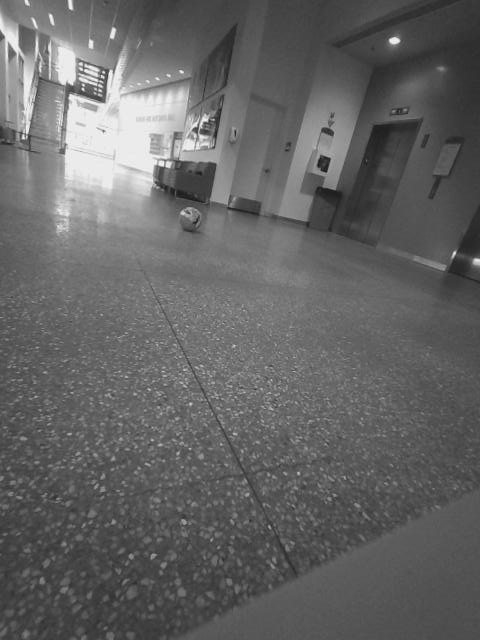ball: (74, 157, 206, 297)
